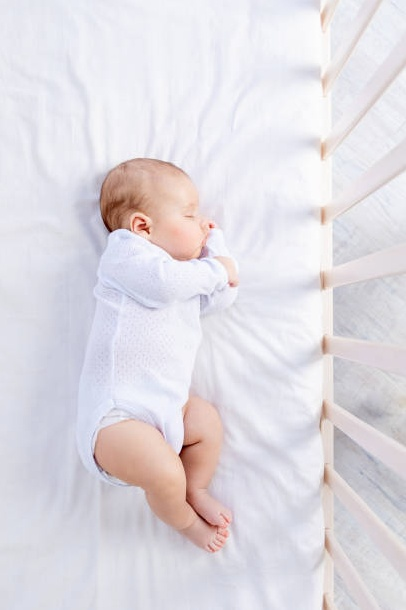baby: (77, 158, 237, 551)
crib: (0, 0, 405, 609)
